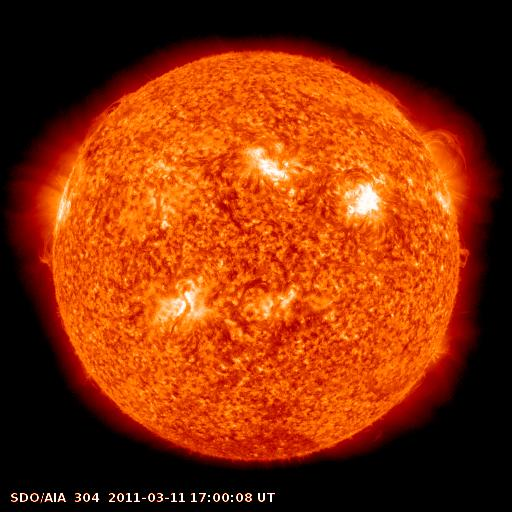prominence: (79, 83, 135, 152), (361, 73, 416, 122), (28, 228, 60, 281), (310, 48, 347, 77), (451, 240, 478, 276)
